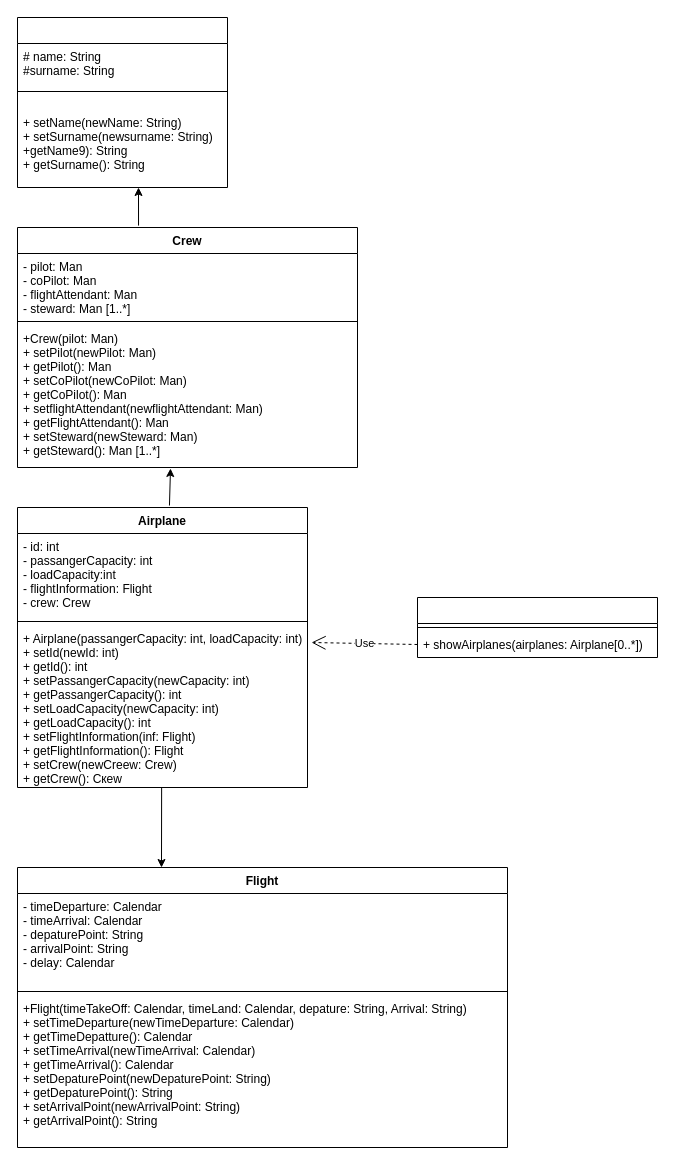
Some shapes in this 675 by 1168 pixel diagram are drawn without their labels. The box of each missing label's shape, as (x1, y1, x2, y2) in pixels:
Man: (16, 16, 228, 188)
Menu: (416, 596, 658, 658)
